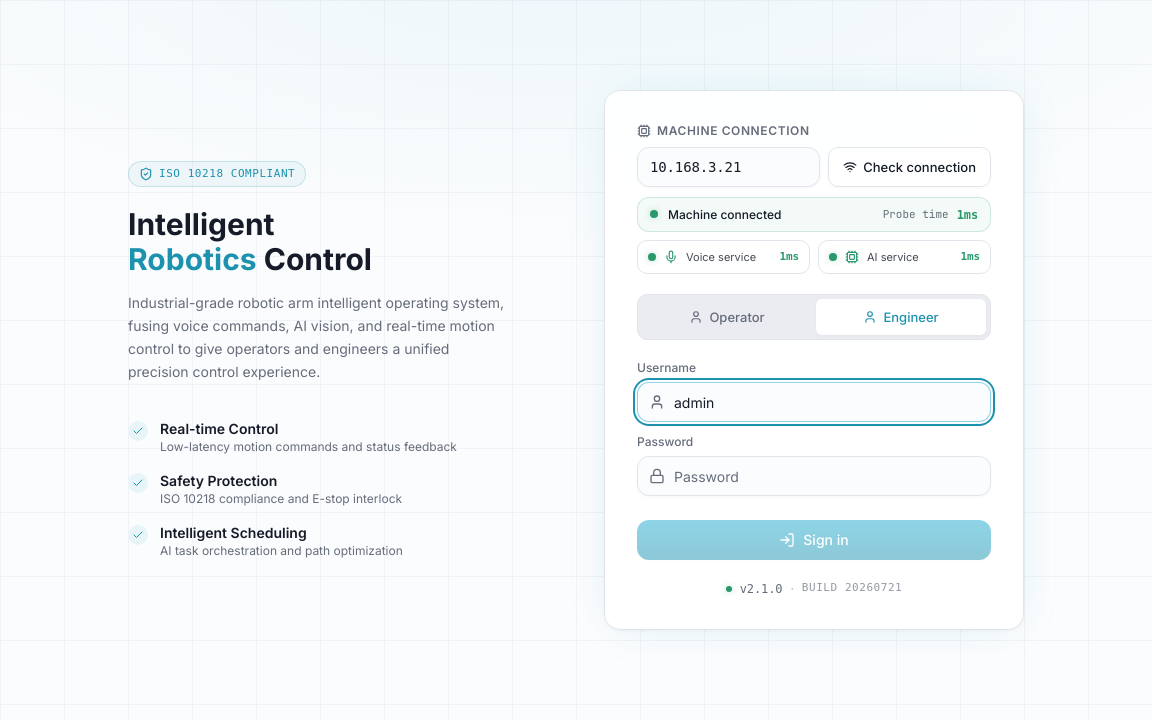
Scenario: App layout › fully collapses the native host sidebar and reopens it only on click
The width and height of the screenshot is (1152, 720).
Step 1. Replace the text in the field with placeholder "Username" with "engineer" → coordinates (814, 402), box [637,382,991,422]
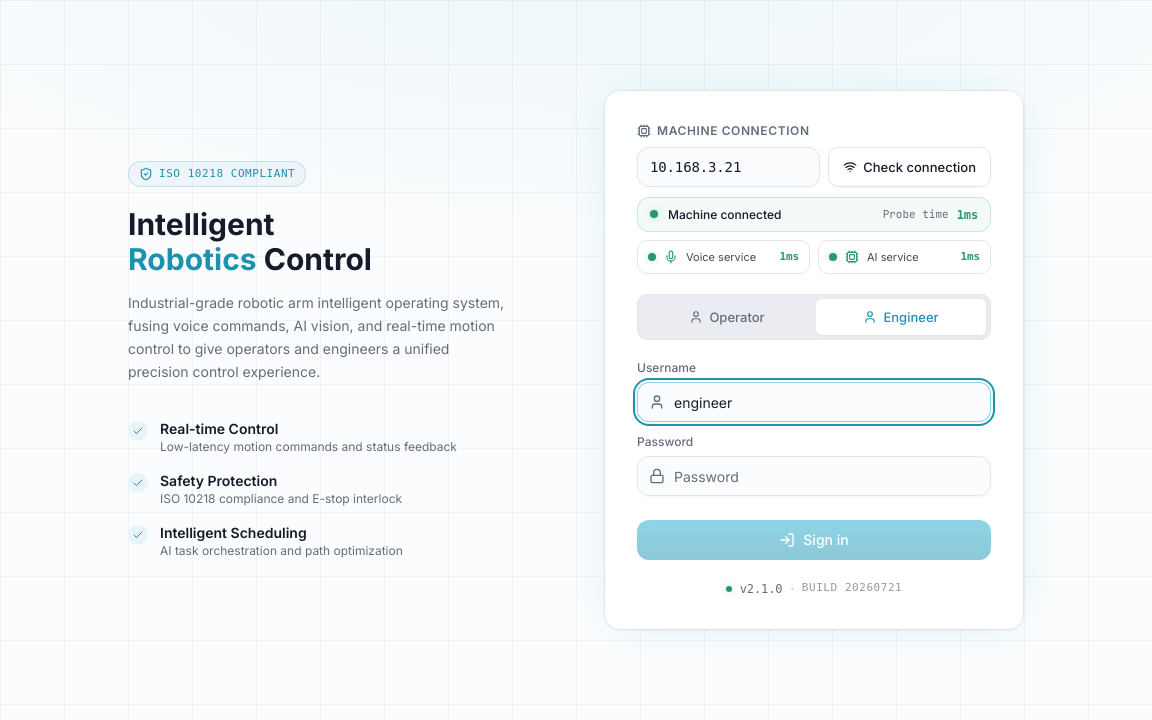
Step 2. Type "pass" into the password field with placeholder "Password" → coordinates (814, 476), box [637,456,991,496]
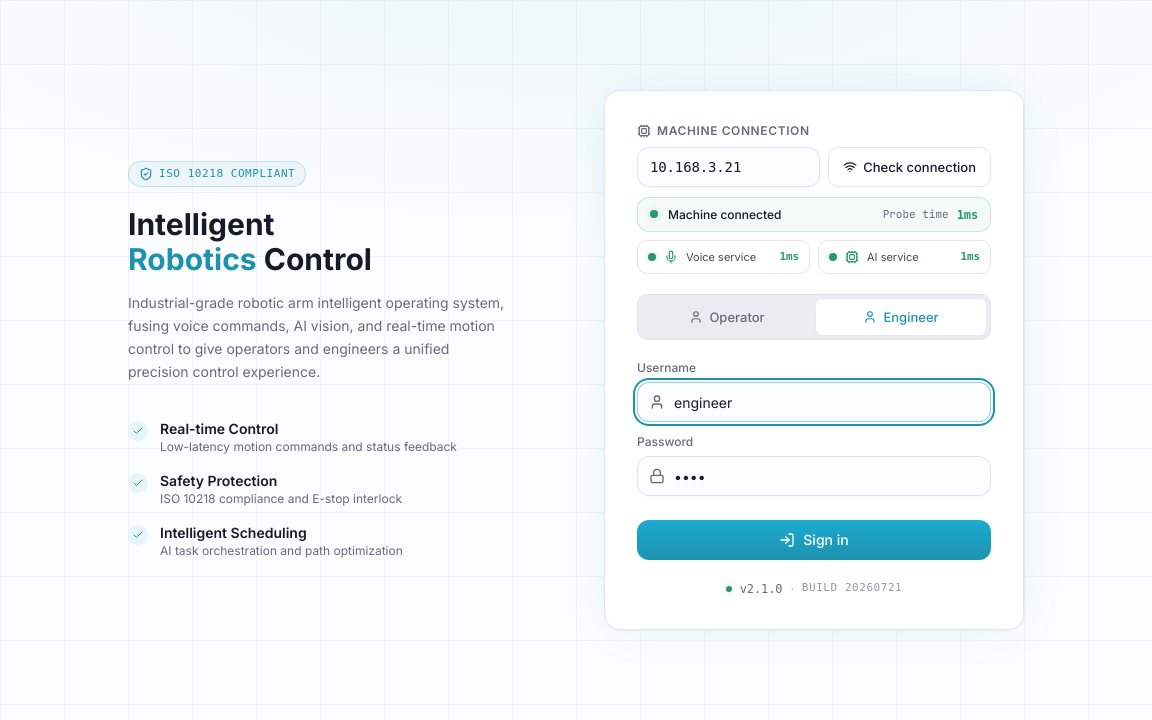
Step 3. Click the submit button → coordinates (814, 540), box [637,520,991,560]
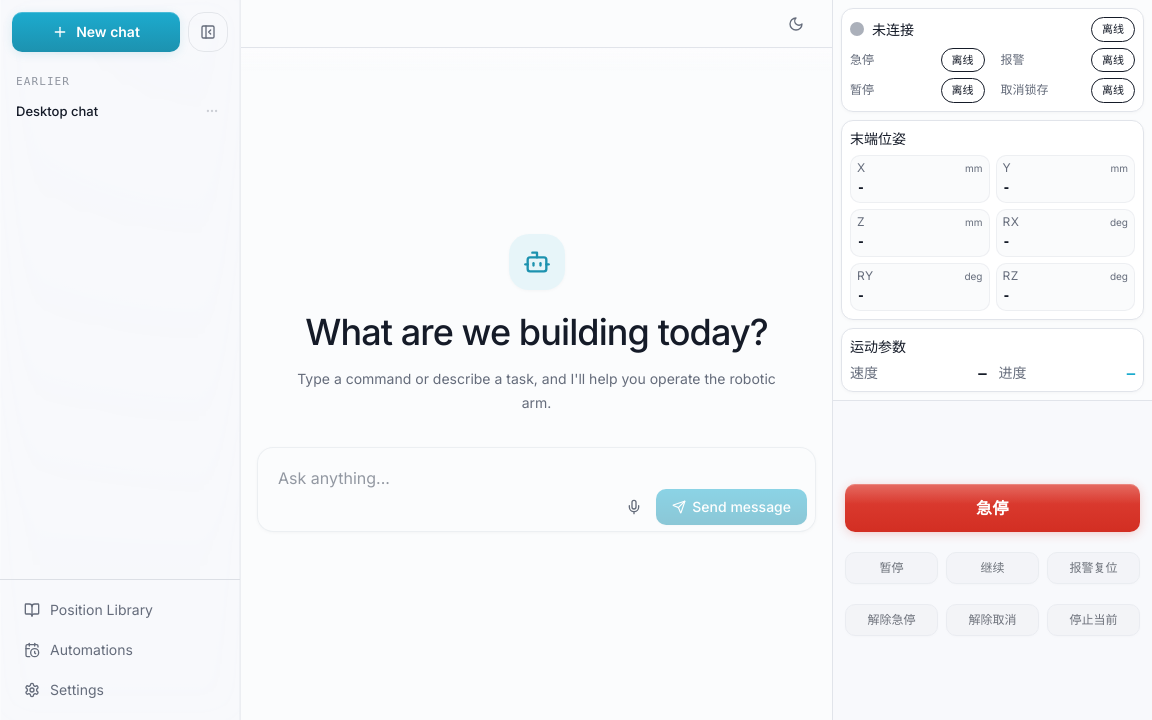
Now the navigation bar named "Sidebar navigation" is shown, box [0,0,240,719]
Step 4. Click the button named "Collapse sidebar" → coordinates (208, 32), box [188,12,228,52]
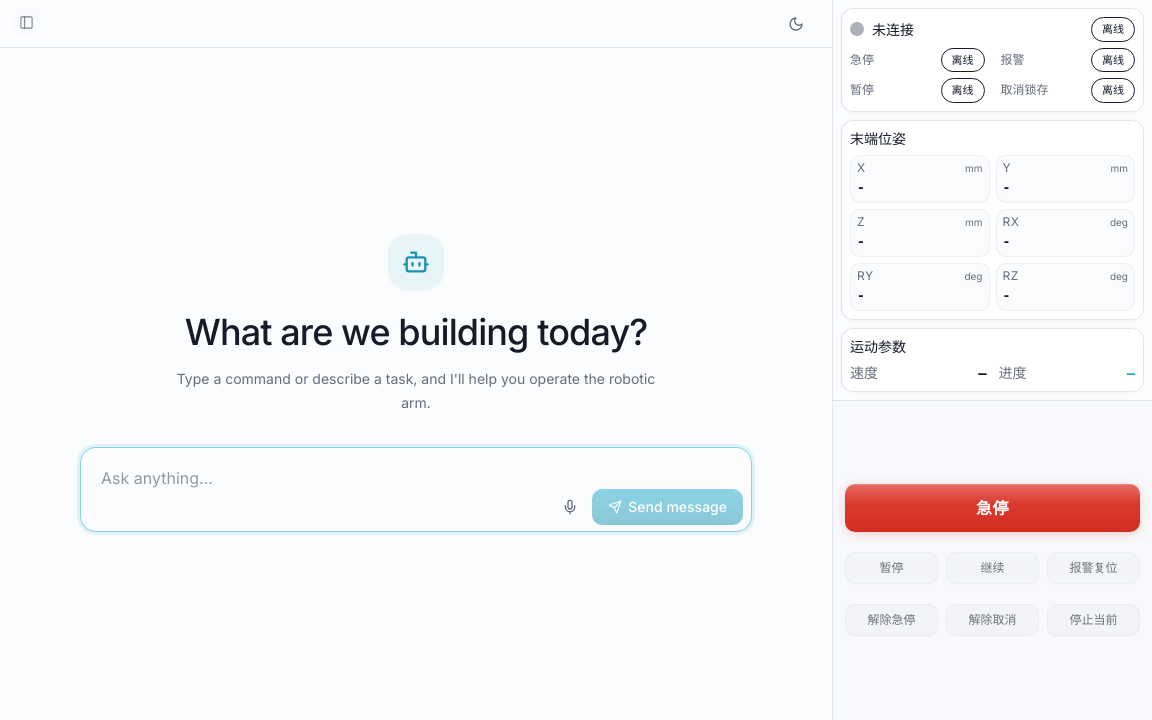
Step 5. Hover over the button with test id "host-sidebar-toggle" → coordinates (26, 22), box [12,8,40,36]
Step 6. Click the button with test id "host-sidebar-toggle" → coordinates (26, 22), box [12,8,40,36]
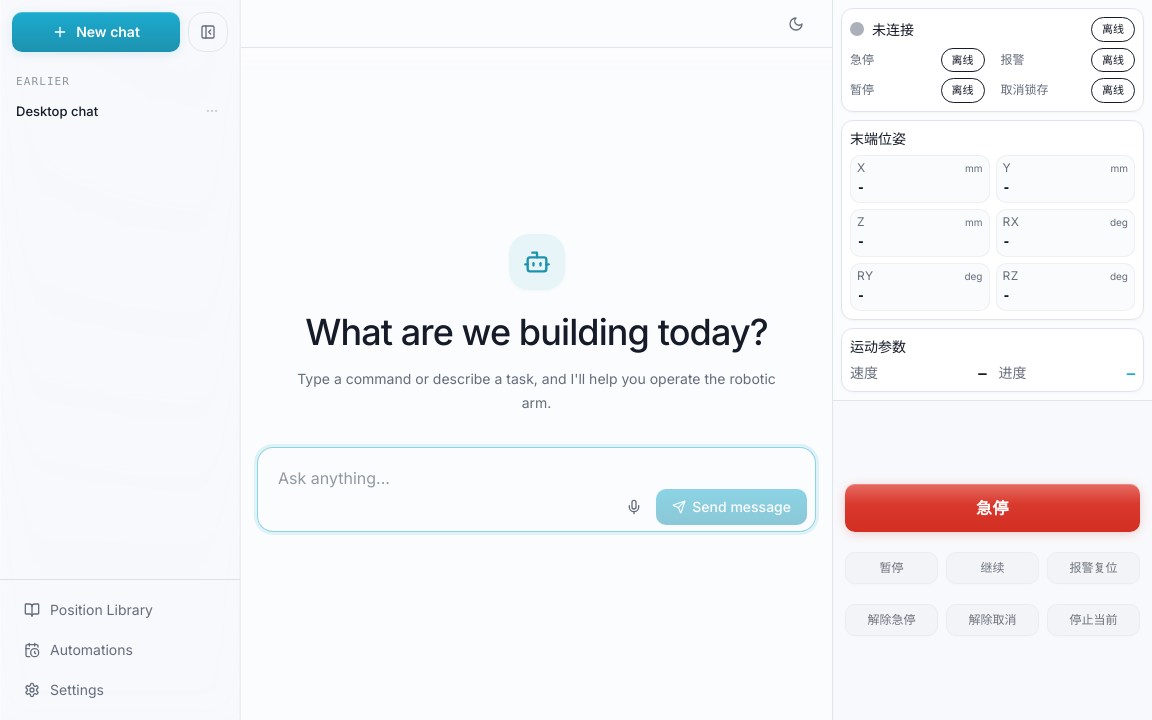
Now the navigation bar named "Sidebar navigation" is shown, box [0,0,240,719]
